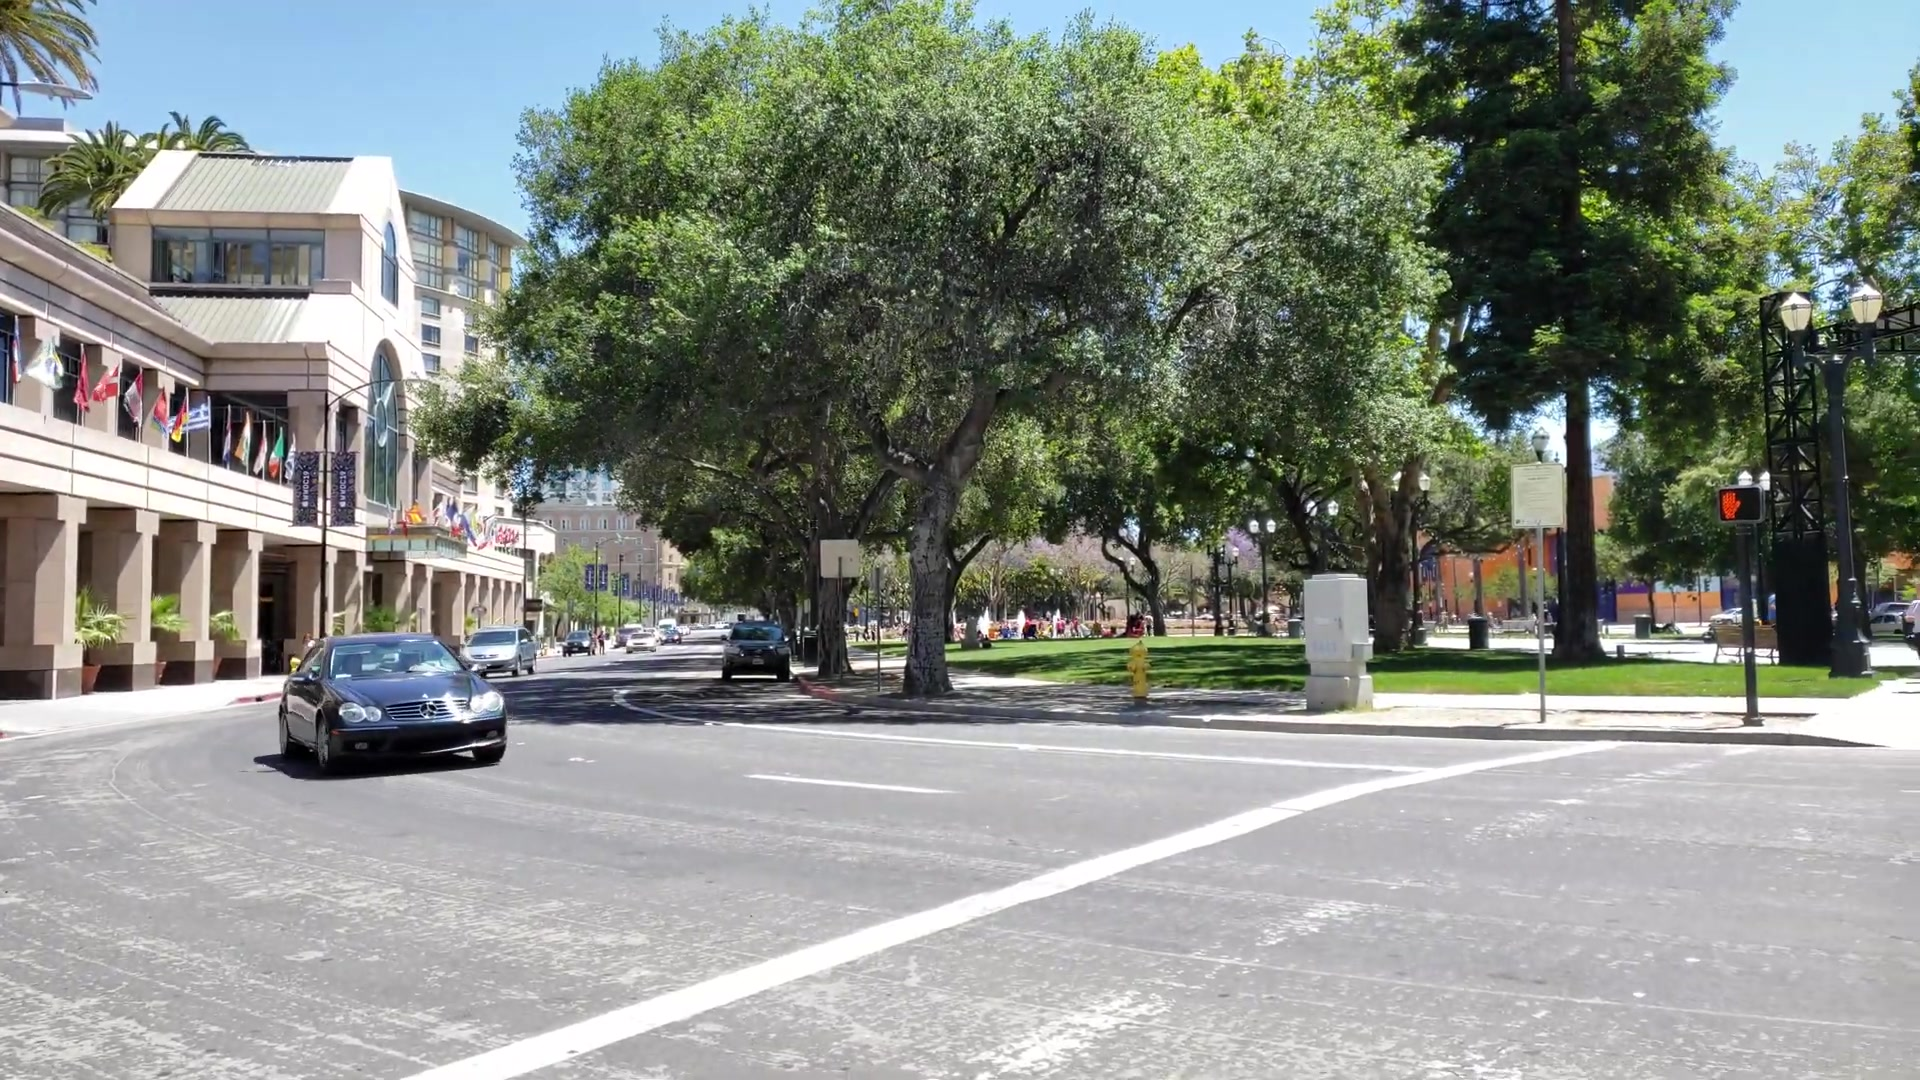vehicle: (284, 637, 506, 765), (723, 624, 789, 686), (462, 632, 533, 673)
